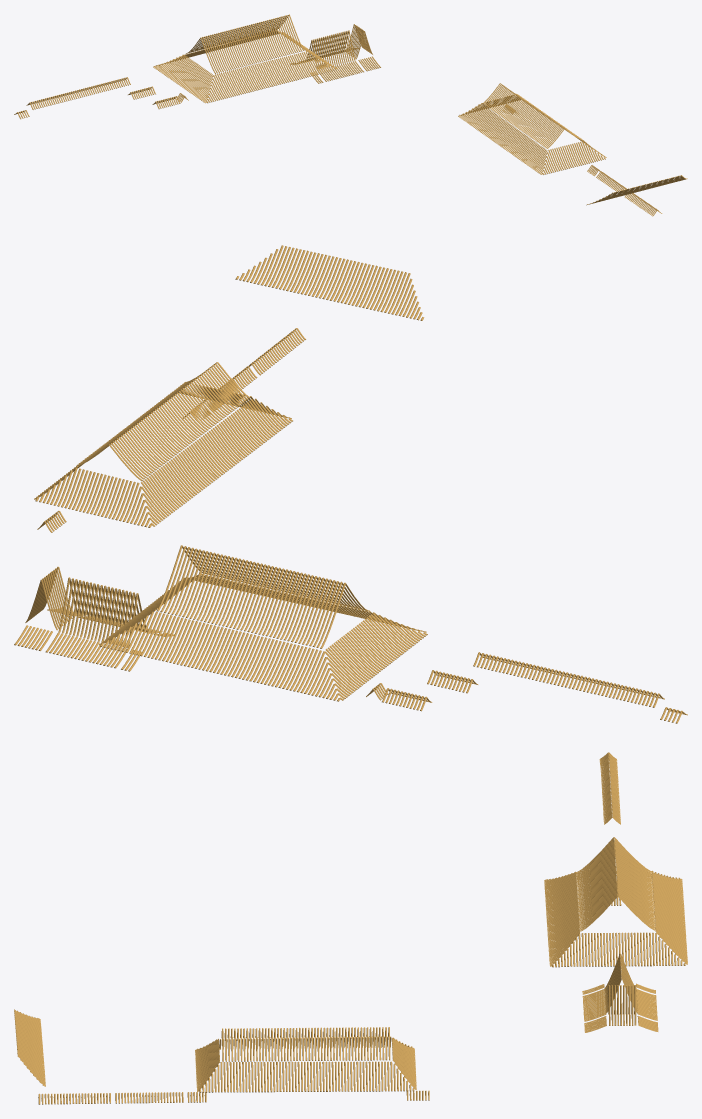
The model's file is roof-tiles-4-4.glb.
The picture shows the model from 3 angles, top to bottom: view 1: azimuth 30°, elevation 25°; view 2: azimuth 150°, elevation 25°; view 3: azimuth 270°, elevation 25°; orthographic projection. The views are drawn at different scales.
Visible parts, largest first — view 1: roof-tiles-4-4_micro_Roof_Glazed_Ochre; view 2: roof-tiles-4-4_micro_Roof_Glazed_Ochre; view 3: roof-tiles-4-4_micro_Roof_Glazed_Ochre.
Boxes of the visible parts, x1=… form: roof-tiles-4-4_micro_Roof_Glazed_Ochre: x1=14, y1=14, x2=687, y2=216; roof-tiles-4-4_micro_Roof_Glazed_Ochre: x1=14, y1=245, x2=687, y2=723; roof-tiles-4-4_micro_Roof_Glazed_Ochre: x1=14, y1=752, x2=687, y2=1104.
Bounding box in the file's own units: 0.9105 × 0.1504 × 0.8636.
